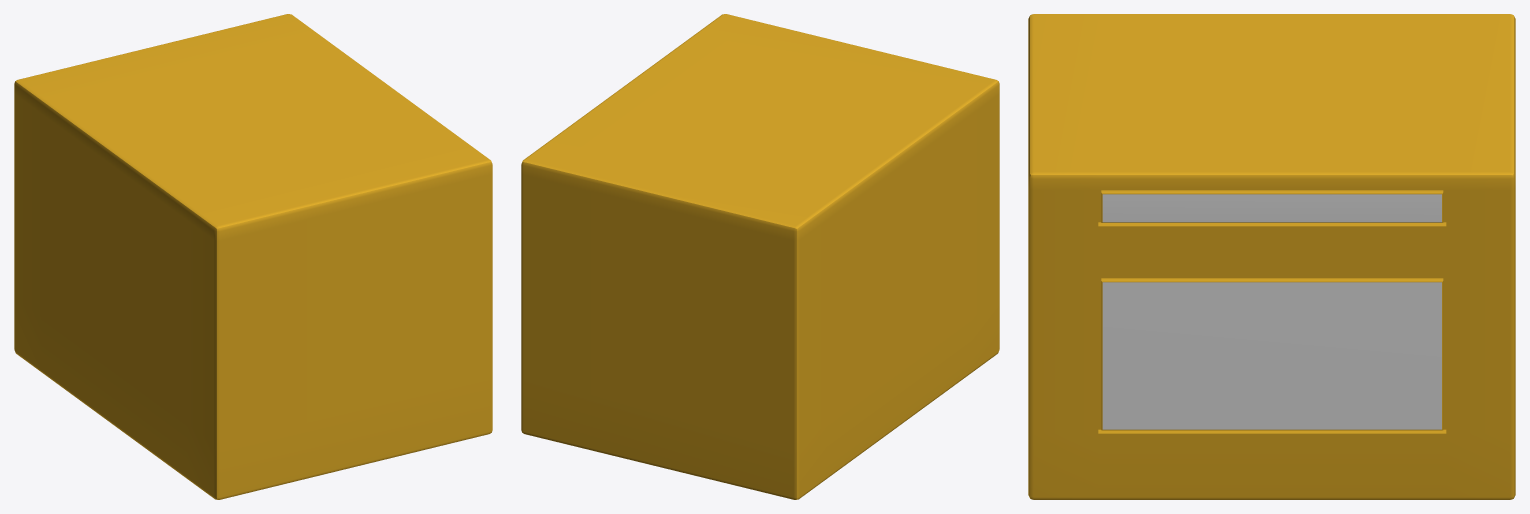
The model's file is Stove_body.fbx.
3 renders of one model, left to right at view 1: azimuth 30°, elevation 25°; view 2: azimuth 150°, elevation 25°; view 3: azimuth 270°, elevation 25°, orthographic. The views are drawn at different scales.
Parts seen in each view (by area): view 1: stove_body; view 2: stove_body; view 3: stove_body.
Part boxes in pixels (box(x1,y1,x2,y2)): stove_body: box(14, 14, 492, 499); stove_body: box(521, 14, 999, 499); stove_body: box(1028, 14, 1515, 499).
Bounding box in the file's own units: 6.32 × 5.96 × 8.02.
